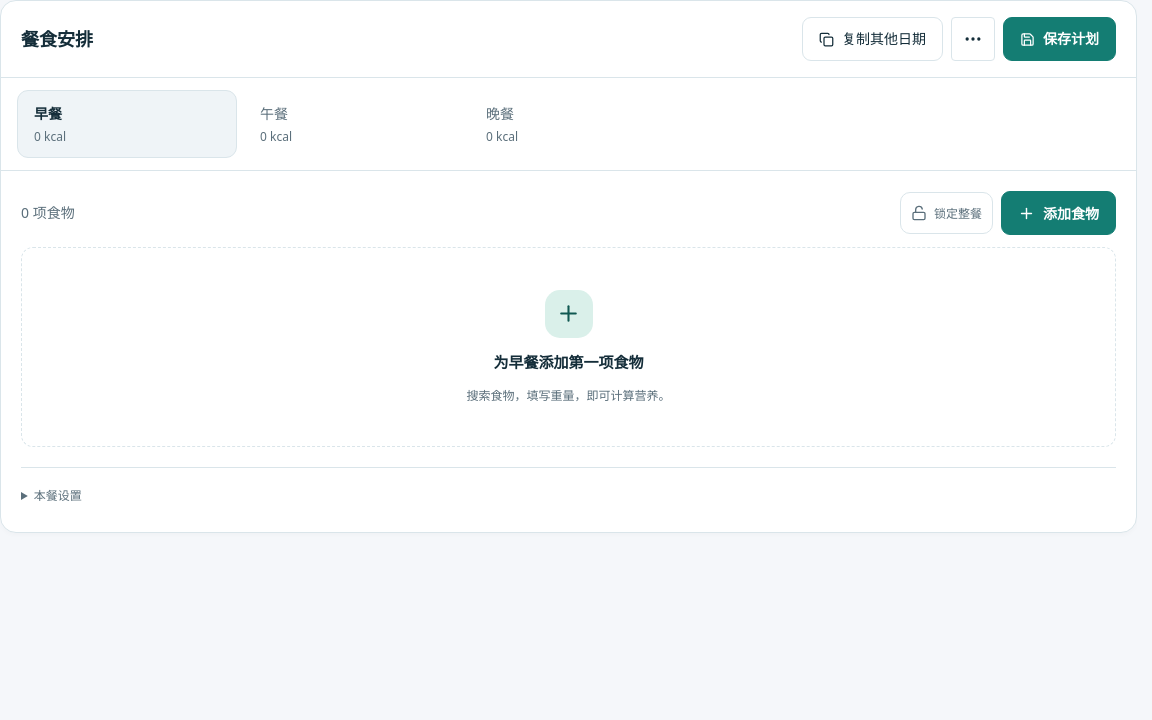
Scenario: 预览不修改当前餐食，确认复制后使用独立条目并可撤销
Click the button "复制其他日期". click: x=872, y=39
box: [802,17,943,61]
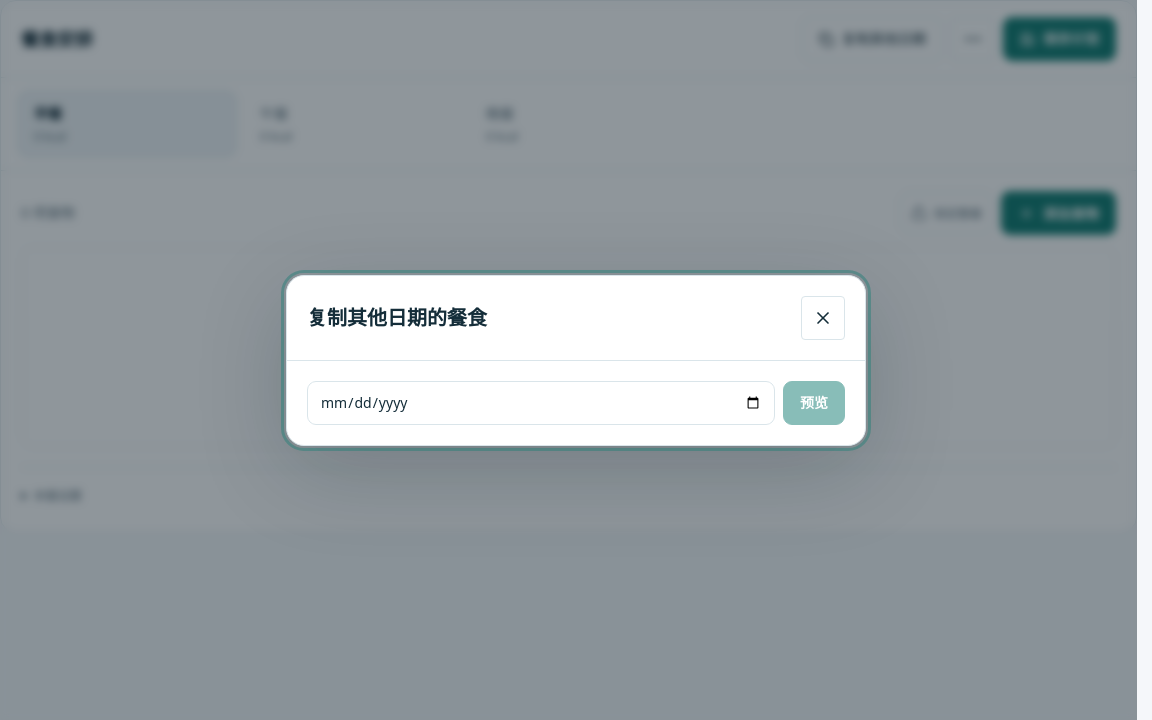
Type "2030-01-01" into the date field named "复制来源日期". click: x=541, y=402
box: [307,380,775,424]
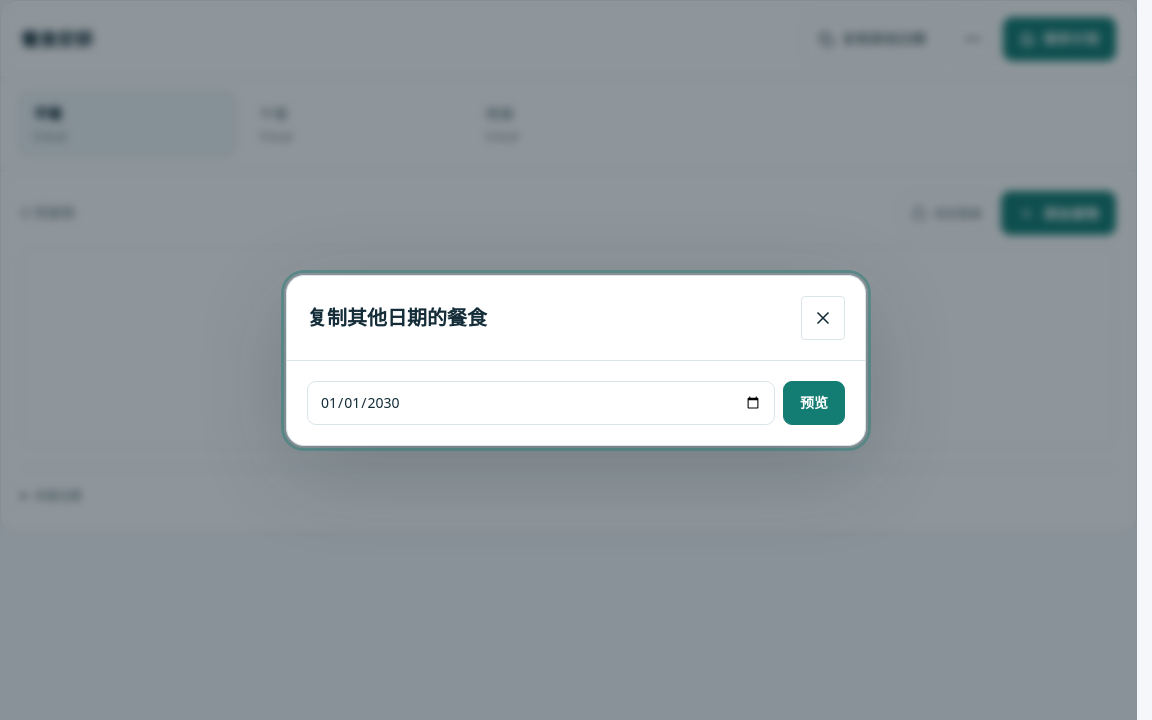
Click the button "预览". click: x=814, y=402
box: [783,380,845,424]
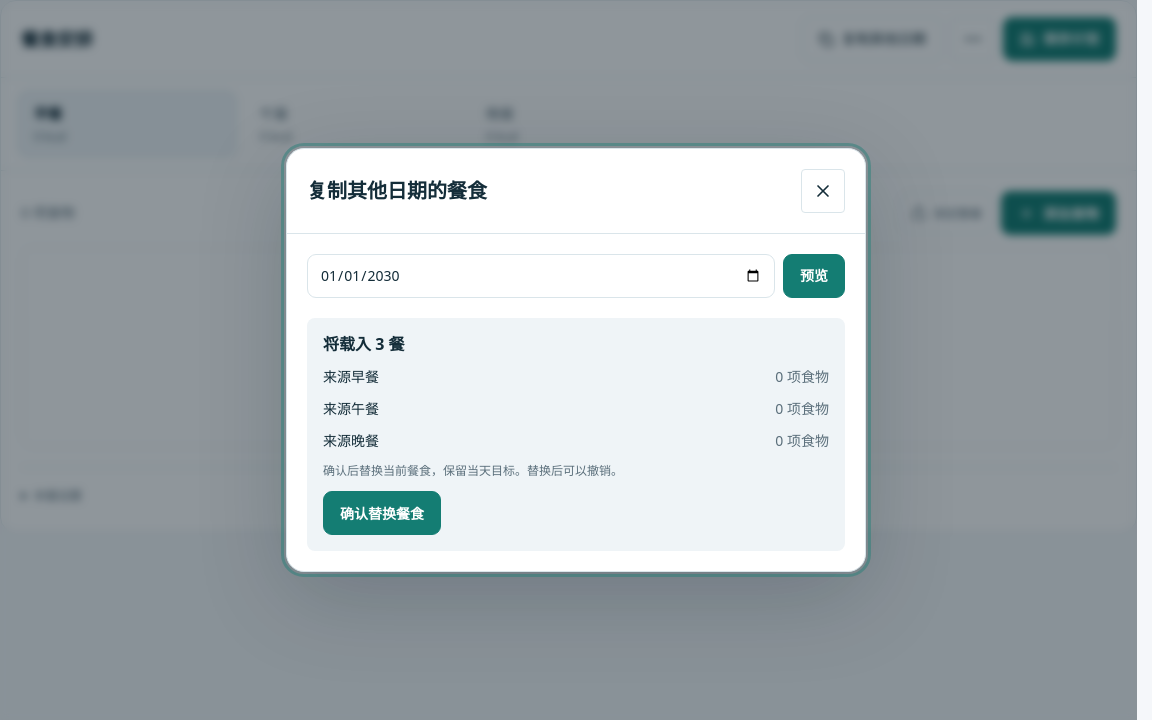
Expected: the heading "将载入 3 餐" is shown, [323,333,404,355]
Click the button "确认替换餐食". click: x=382, y=513
box: [323,491,441,535]
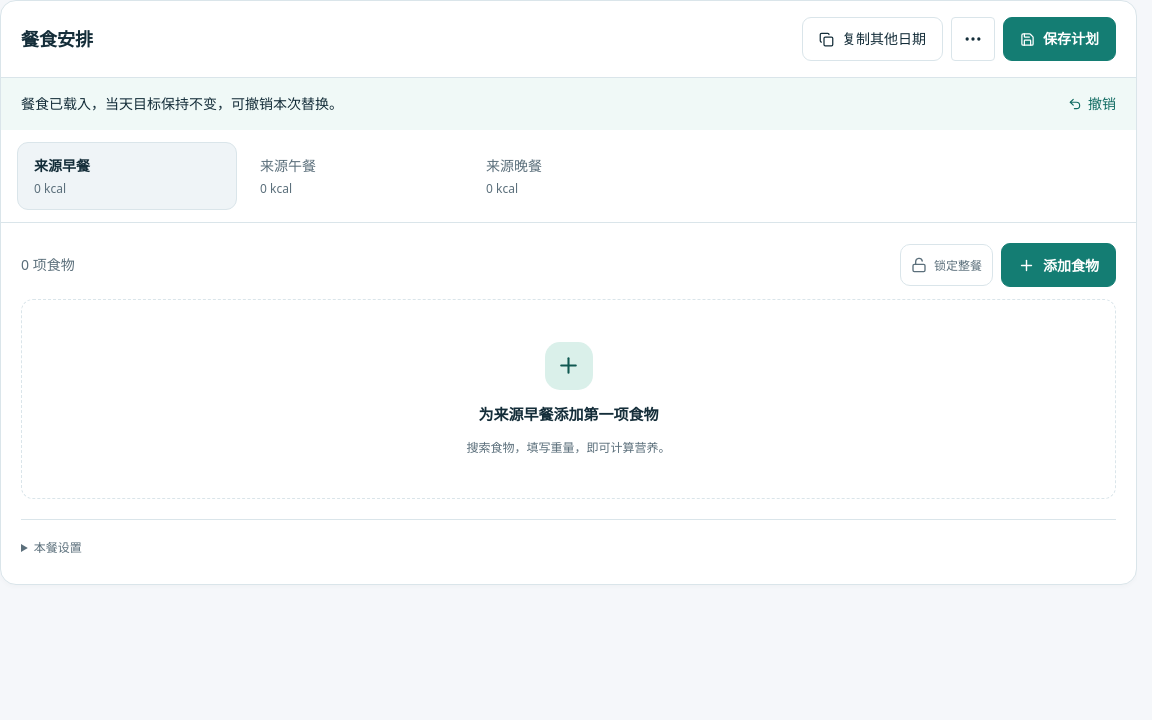
Expected: the number of tabs "来源" is 3, [17,142,237,210]; [243,142,463,210]; [469,142,689,210]
Expected: the dialog is gone
Click the button "撤销". click: x=1092, y=104
box: [1068,86,1116,122]
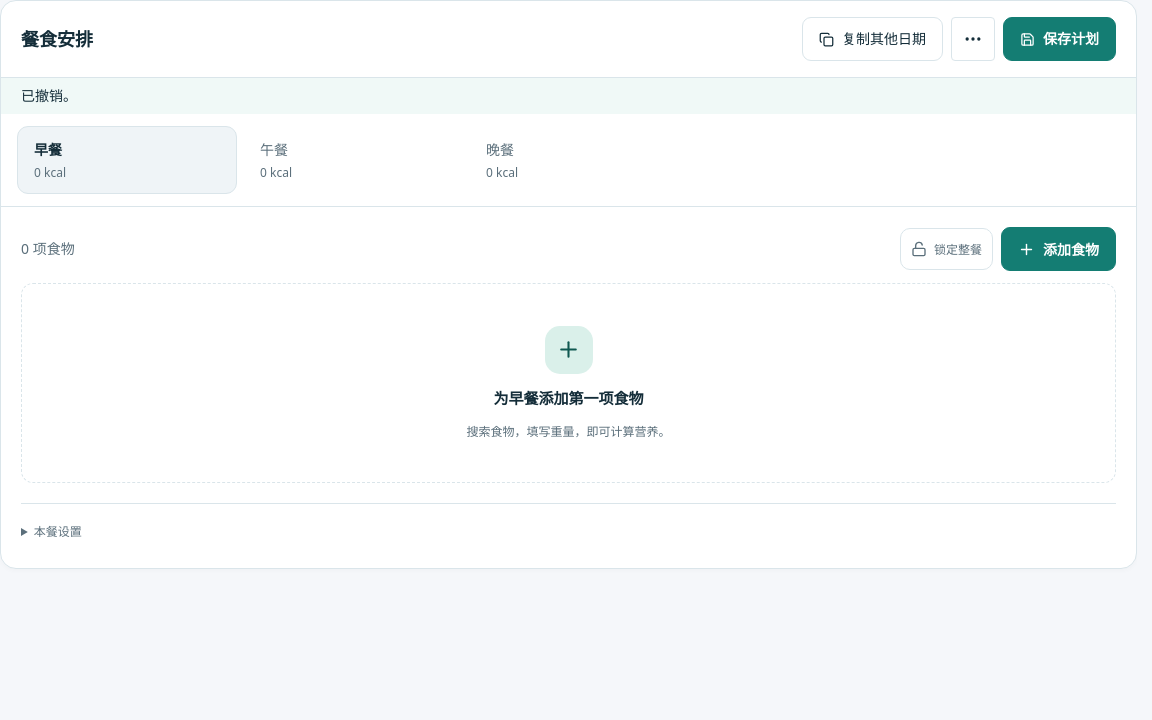
Expected: the tab "来源" is gone
